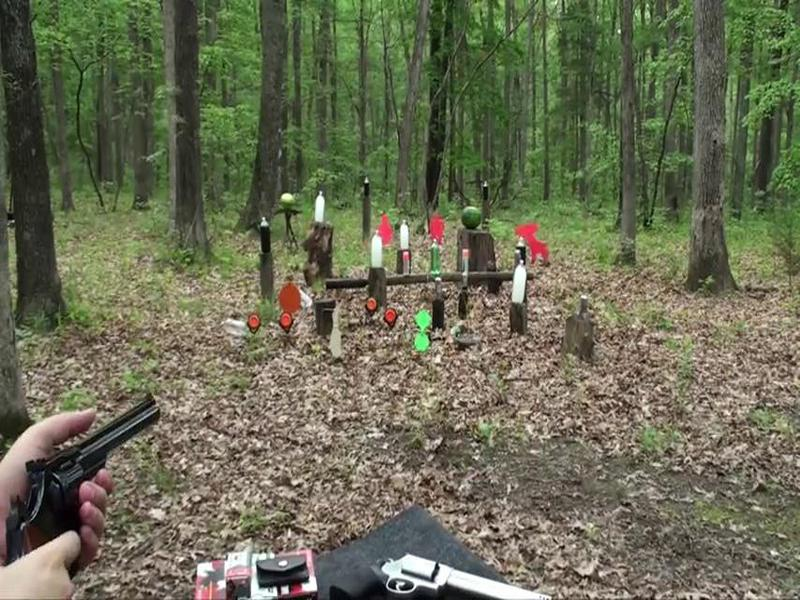Revolver: (1, 374, 178, 596)
